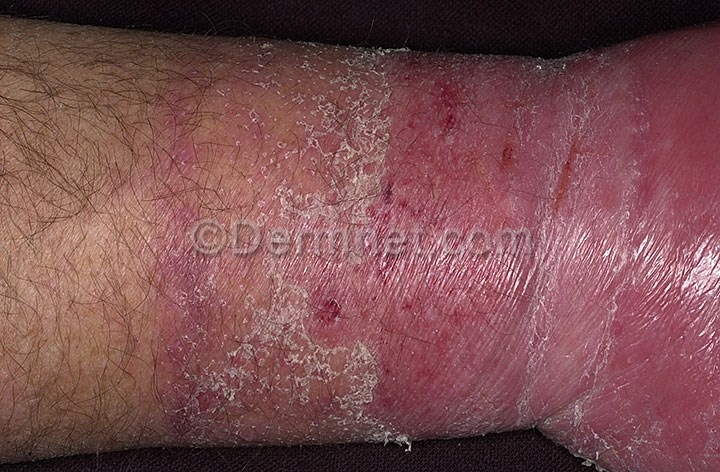Psoriasis: (155, 45, 715, 447)
